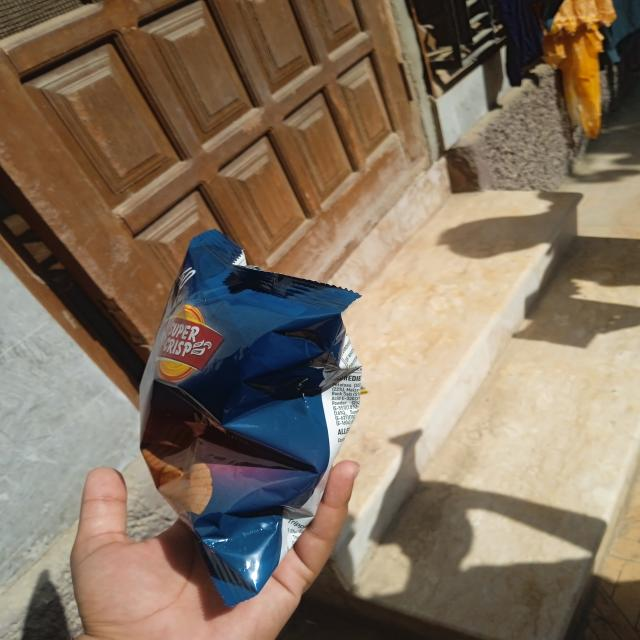Plastic: (125, 222, 365, 616)
